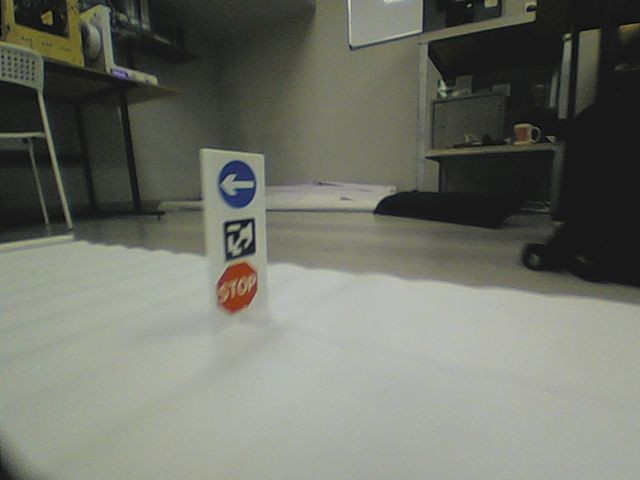Stop: (216, 262, 259, 313)
